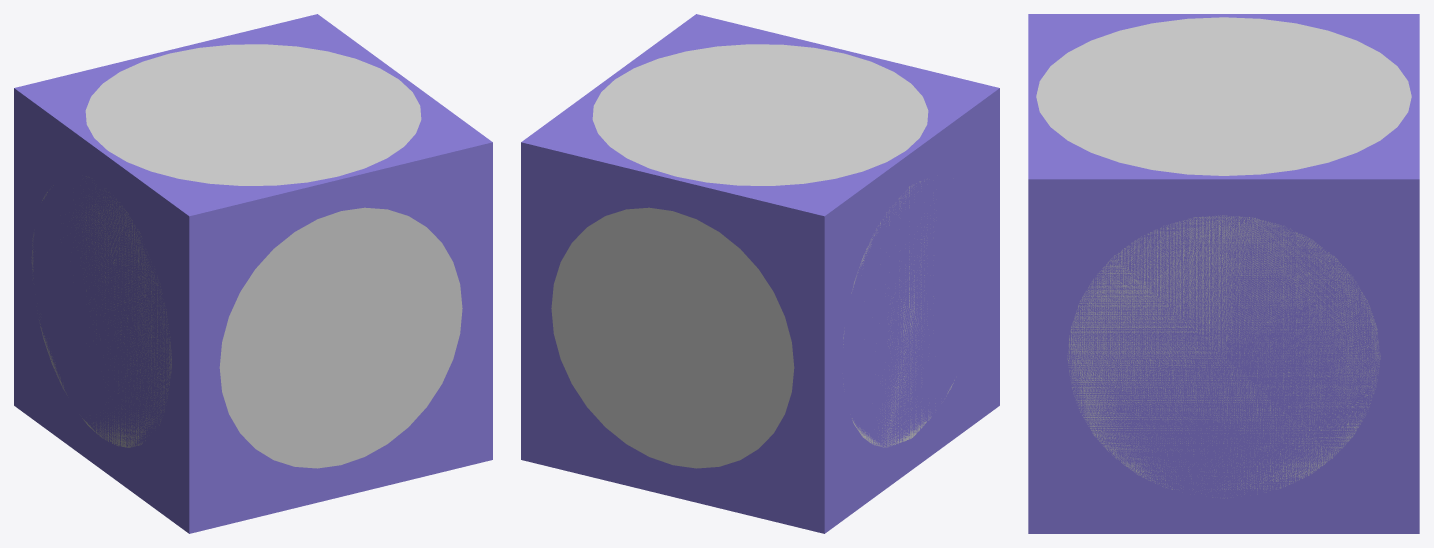
3 renders of one model, left to right at view 1: azimuth 30°, elevation 25°; view 2: azimuth 150°, elevation 25°; view 3: azimuth 270°, elevation 25°, orthographic. The views are drawn at different scales.
Visible parts, largest first — view 1: Cube, Cylinder.002, Cylinder.001, Cylinder; view 2: Cube, Cylinder.002, Cylinder.001, Cylinder; view 3: Cube, Cylinder.001, Cylinder.
Boxes of the visible parts, x1,y1,x2,y2 form: Cube: [14, 14, 492, 533]; Cylinder.002: [219, 207, 462, 468]; Cylinder.001: [85, 44, 421, 185]; Cylinder: [31, 176, 171, 447]; Cube: [521, 14, 999, 533]; Cylinder.002: [551, 207, 794, 468]; Cylinder.001: [592, 44, 928, 185]; Cylinder: [843, 181, 954, 447]; Cube: [1028, 14, 1419, 533]; Cylinder.001: [1036, 17, 1411, 175]; Cylinder: [1067, 215, 1380, 498].
Size of the model in its own units: 1 by 1 by 1.
